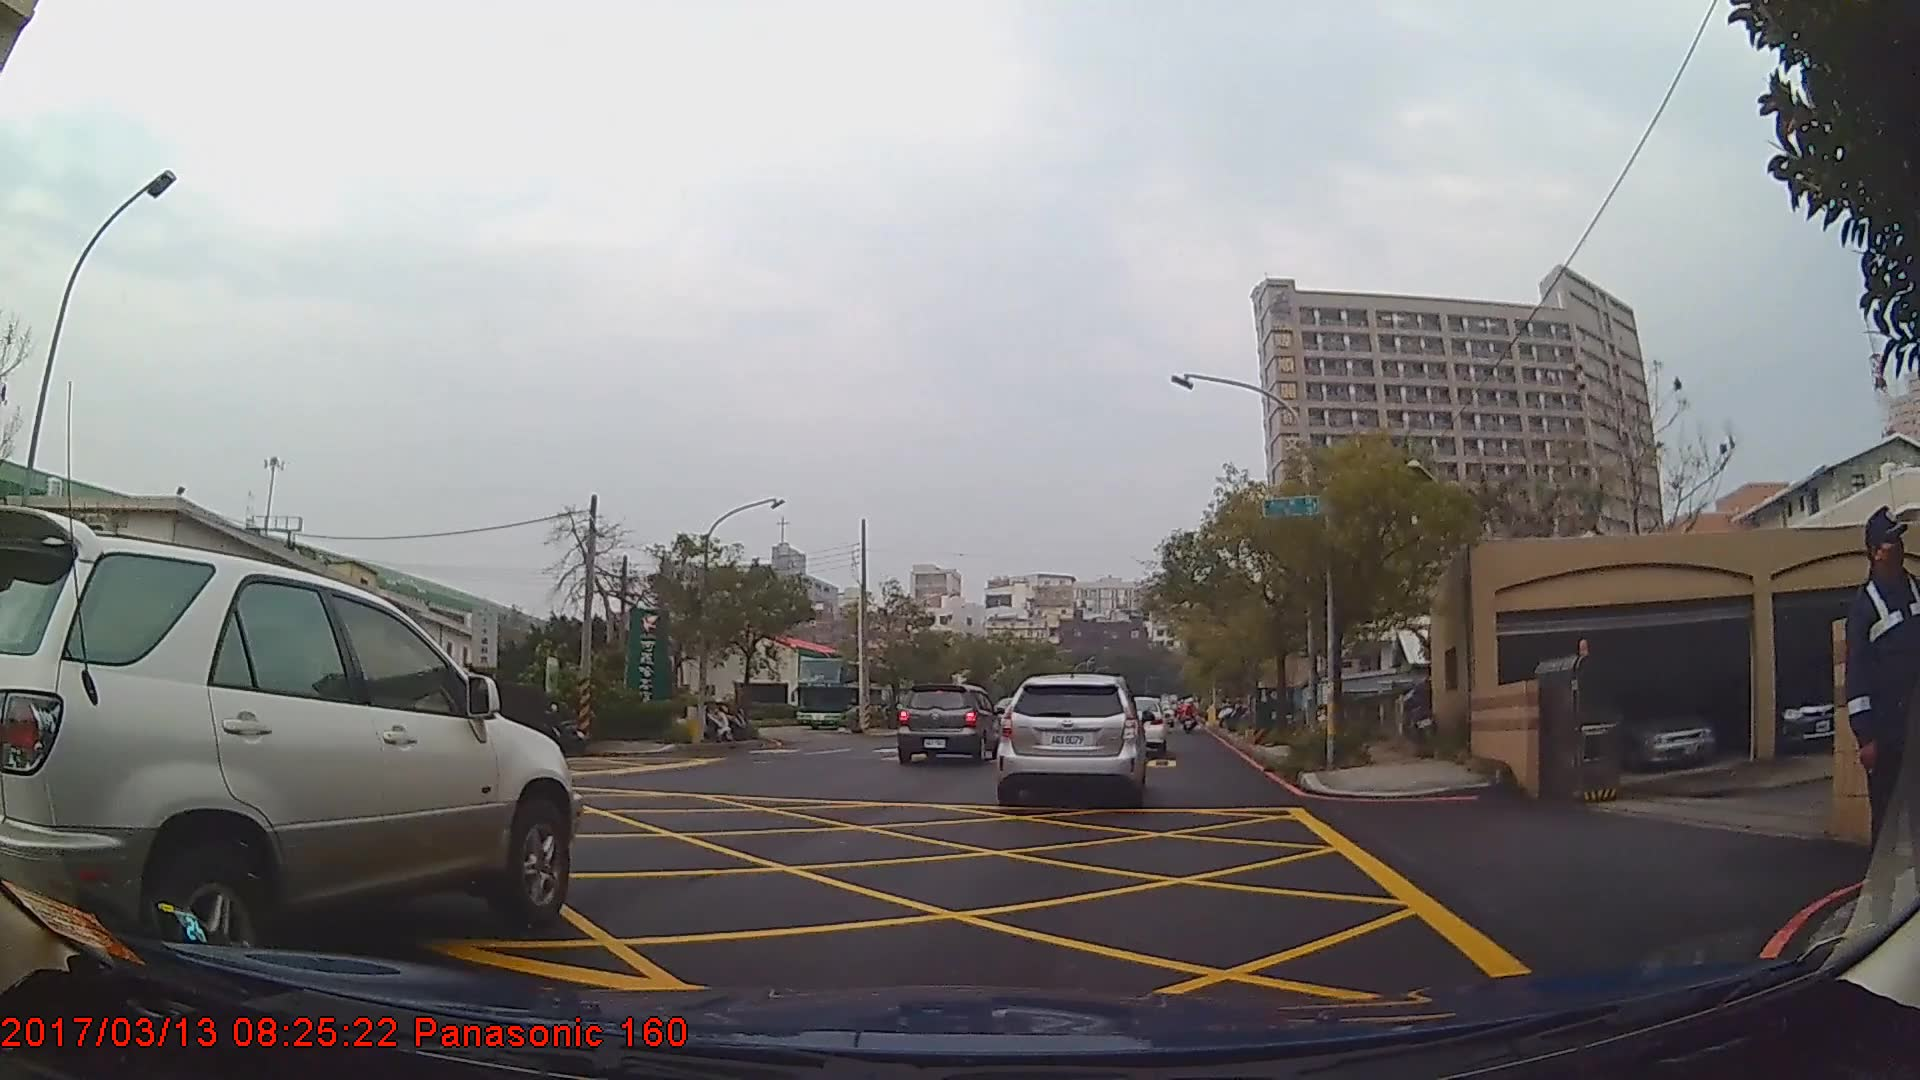pedestrian: (1837, 499, 1920, 928)
vehicle: (0, 504, 579, 984), (993, 671, 1148, 806), (1602, 685, 1725, 767), (895, 681, 1004, 762), (794, 659, 897, 735)
